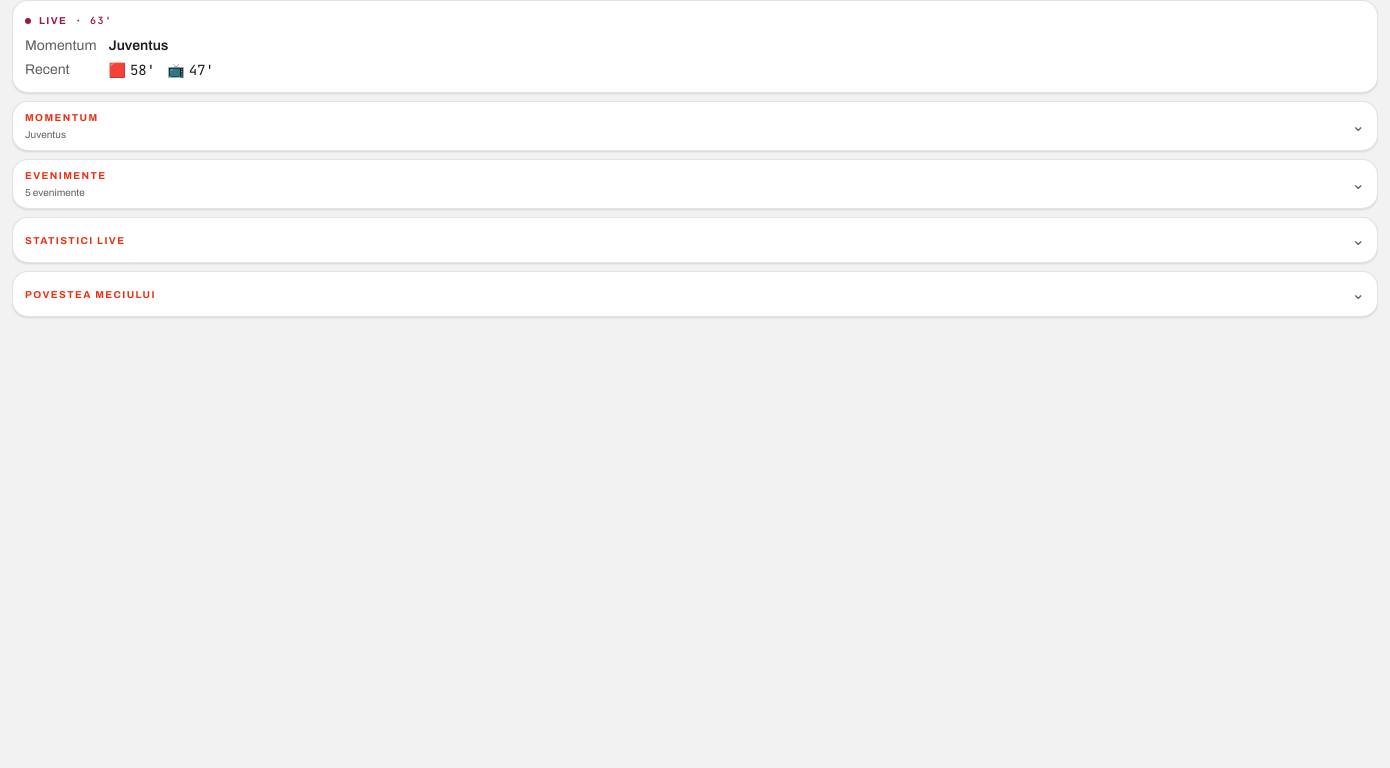
L — corners are a statistic here, never a marker › the axis legend offers no corner entry even though the match had nine
Click the button "Momentum Juventus ⌄" at point(62, 118), box x1=13 y1=102 x2=1377 y2=150
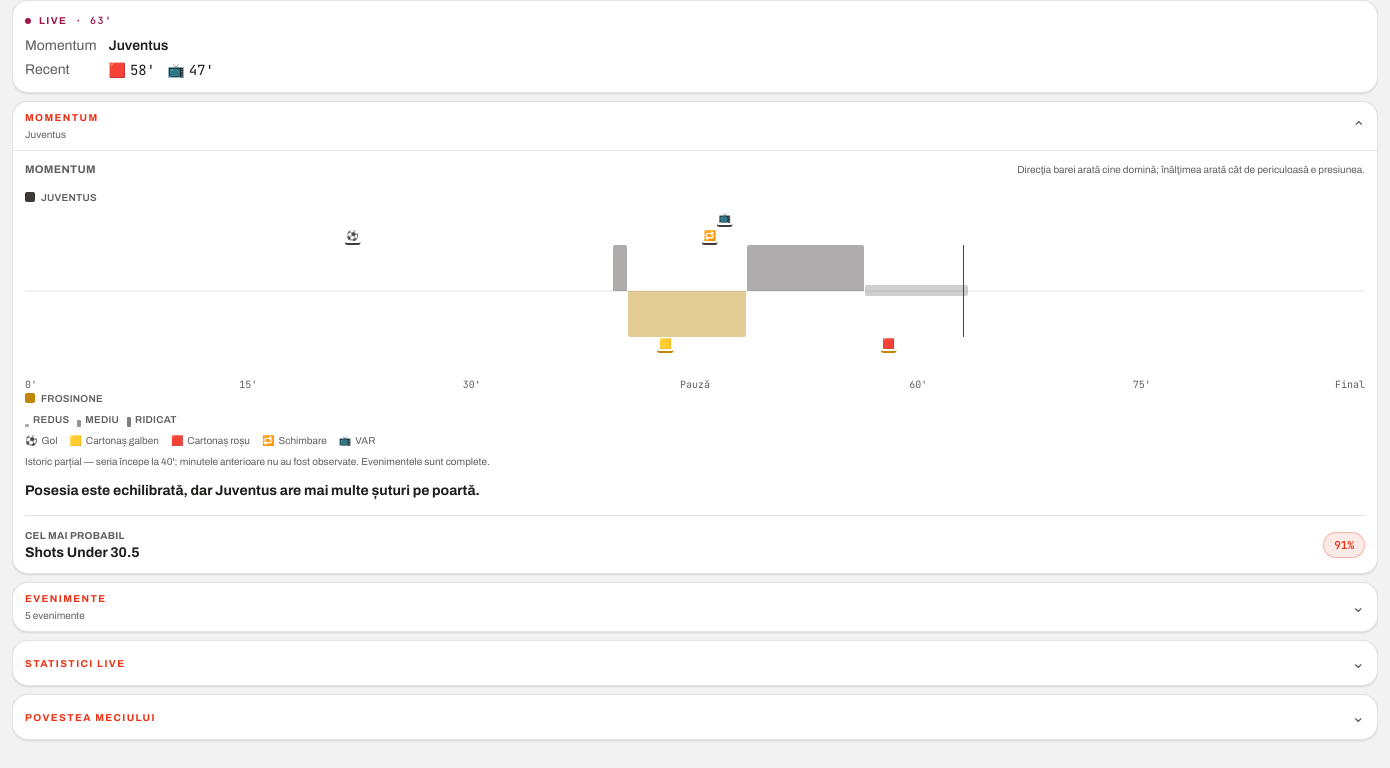
Expected: the element with test id "momentum-event-legend" shows "Gol", x1=42 y1=434 x2=57 y2=446
Expected: the element with test id "momentum-event-legend" shows "Cartonaș galben", x1=86 y1=434 x2=159 y2=446
